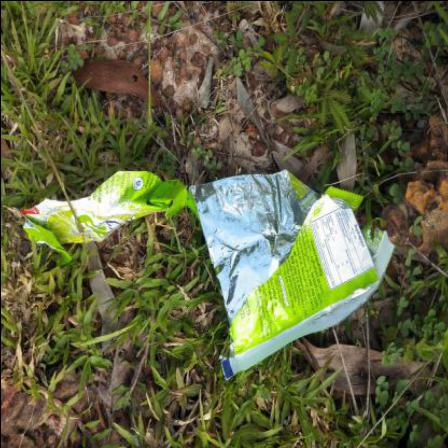Plastic bag - wrapper: (22, 170, 397, 382)
